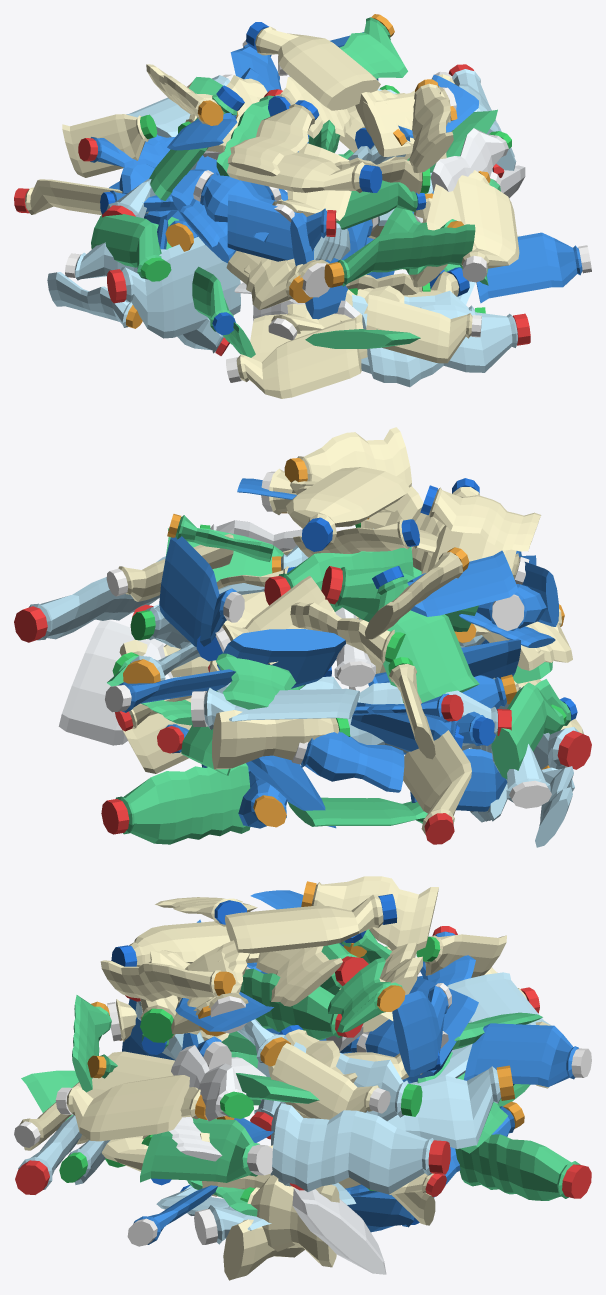
Rendered from Pilon de botellas.fbx.
3 renders of one model, top to bottom at view 1: azimuth 30°, elevation 25°; view 2: azimuth 150°, elevation 25°; view 3: azimuth 270°, elevation 25°, orthographic. The views are drawn at different scales.
Parts seen in each view (by area): view 1: Pilon de botellas; view 2: Pilon de botellas; view 3: Pilon de botellas.
Part boxes in pixels (x1,y1,x2,y2): Pilon de botellas: (14, 14, 591, 398); Pilon de botellas: (14, 427, 591, 847); Pilon de botellas: (14, 876, 591, 1280).
Bounding box in the file's own units: 538 × 307 × 540.
